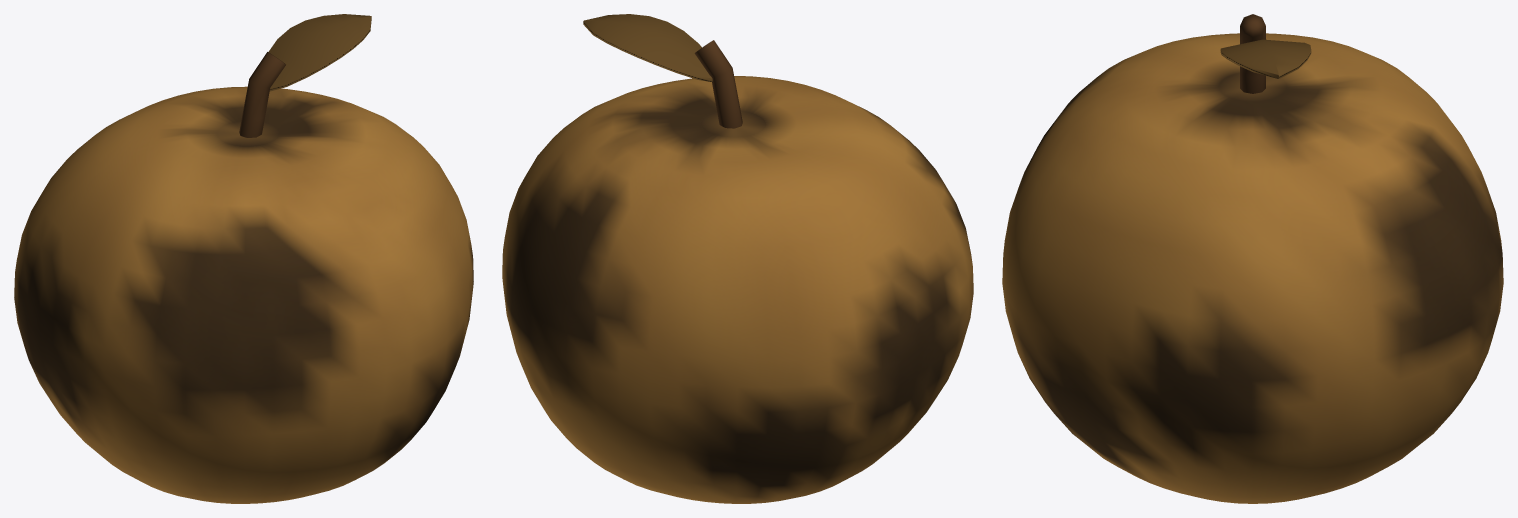
Rendered from omena-mata-v3.glb.
The picture shows the model from 3 angles, left to right: view 1: azimuth 30°, elevation 25°; view 2: azimuth 150°, elevation 25°; view 3: azimuth 270°, elevation 25°; orthographic projection. The views are drawn at different scales.
Visible parts, largest first — view 1: fruit, leaf, stem; view 2: fruit, leaf, stem; view 3: fruit, leaf, stem.
Boxes of the visible parts, <box> form: fruit: <box>14,86,473,503</box>; leaf: <box>268,14,371,91</box>; stem: <box>239,52,285,137</box>; fruit: <box>502,76,973,503</box>; leaf: <box>583,14,712,82</box>; stem: <box>694,40,742,128</box>; fruit: <box>1002,33,1503,503</box>; leaf: <box>1220,39,1311,78</box>; stem: <box>1240,14,1265,93</box>.
Bounding box in the file's own units: 0.14 × 0.1408 × 0.1353.
Materials: 3 (1 with a texture image).
